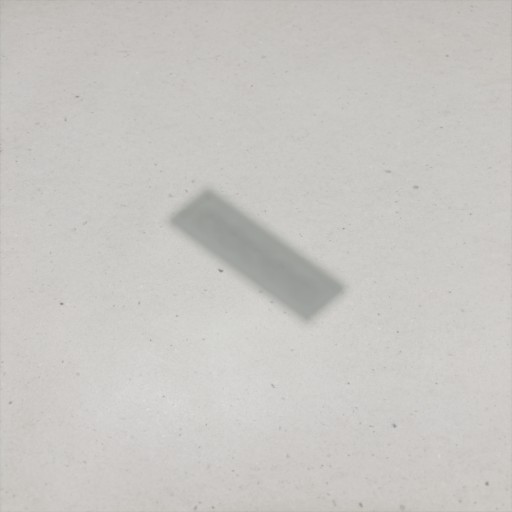lego: (166, 184, 349, 327)
